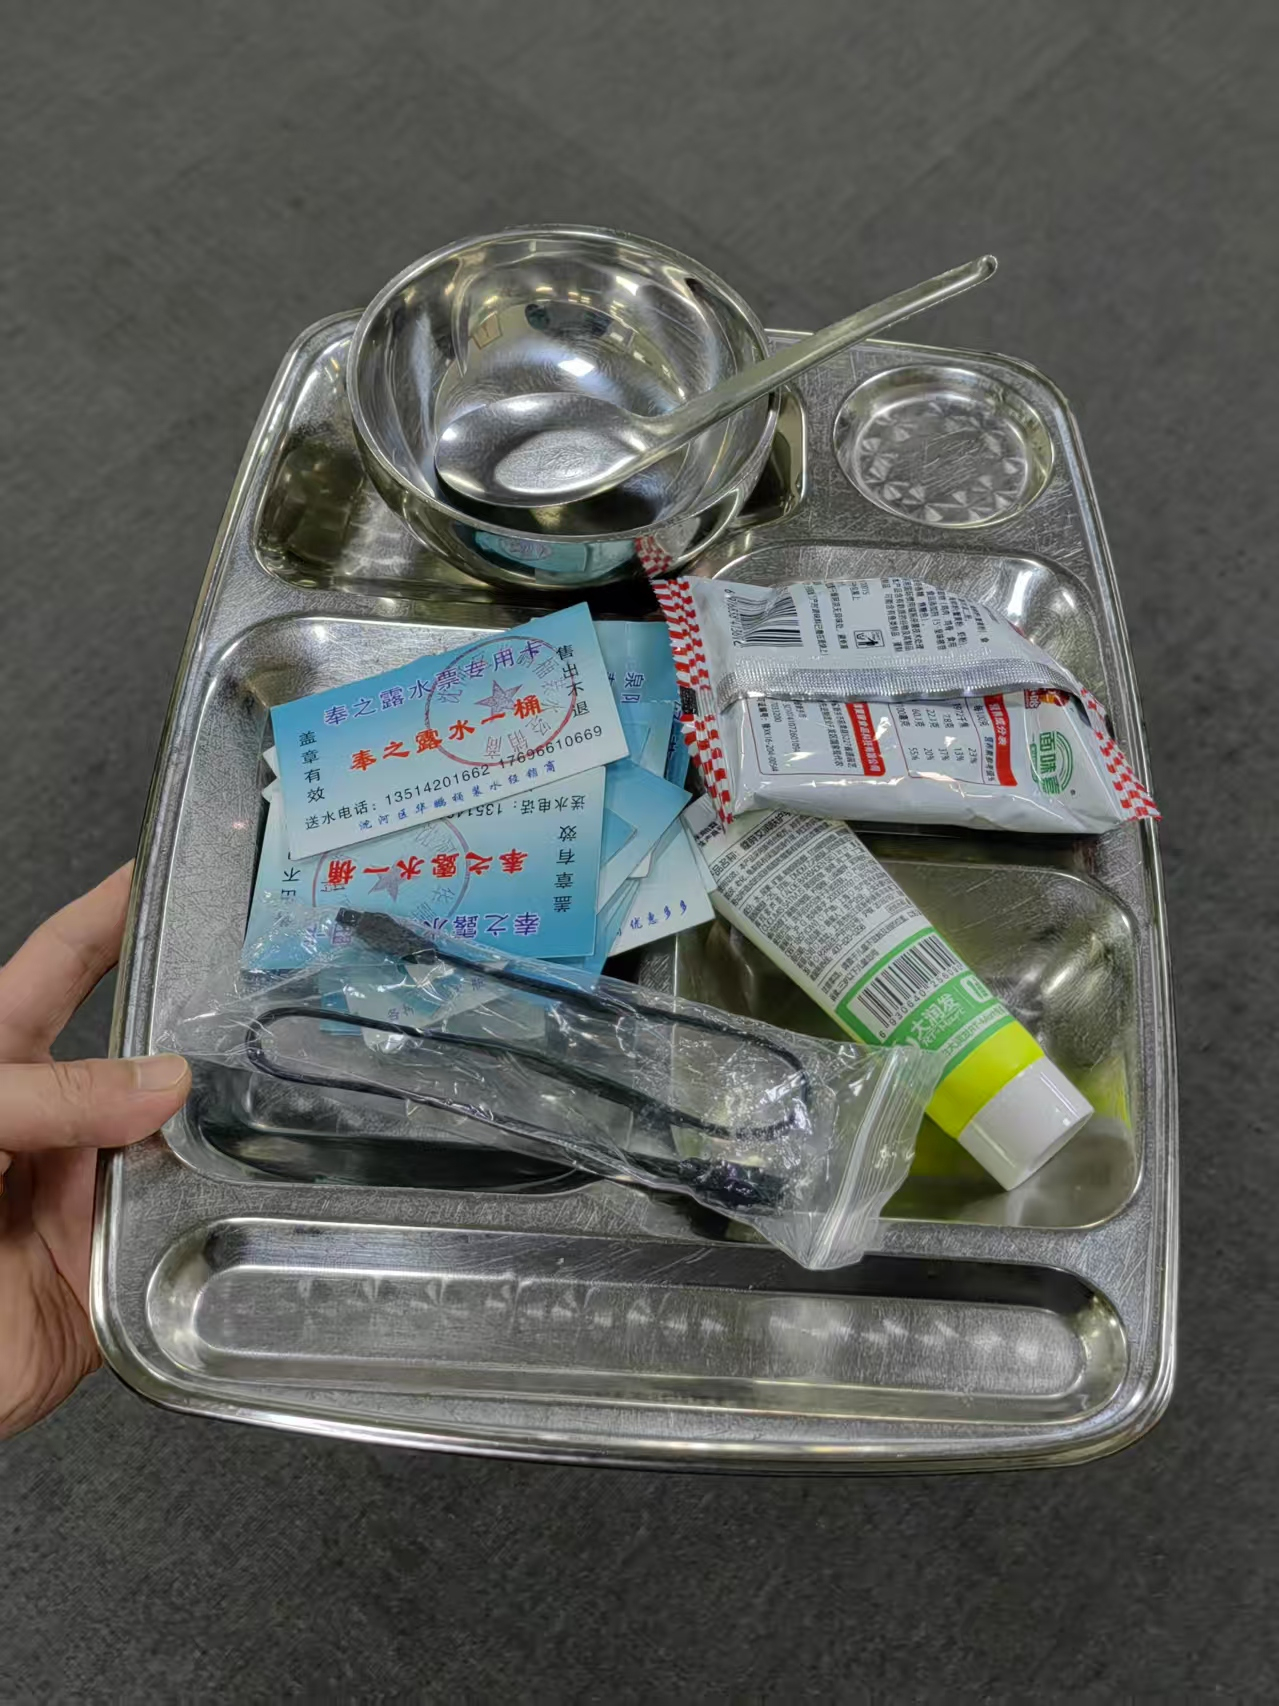plate: (90, 298, 1182, 1475)
severe: (249, 572, 1159, 1236)
